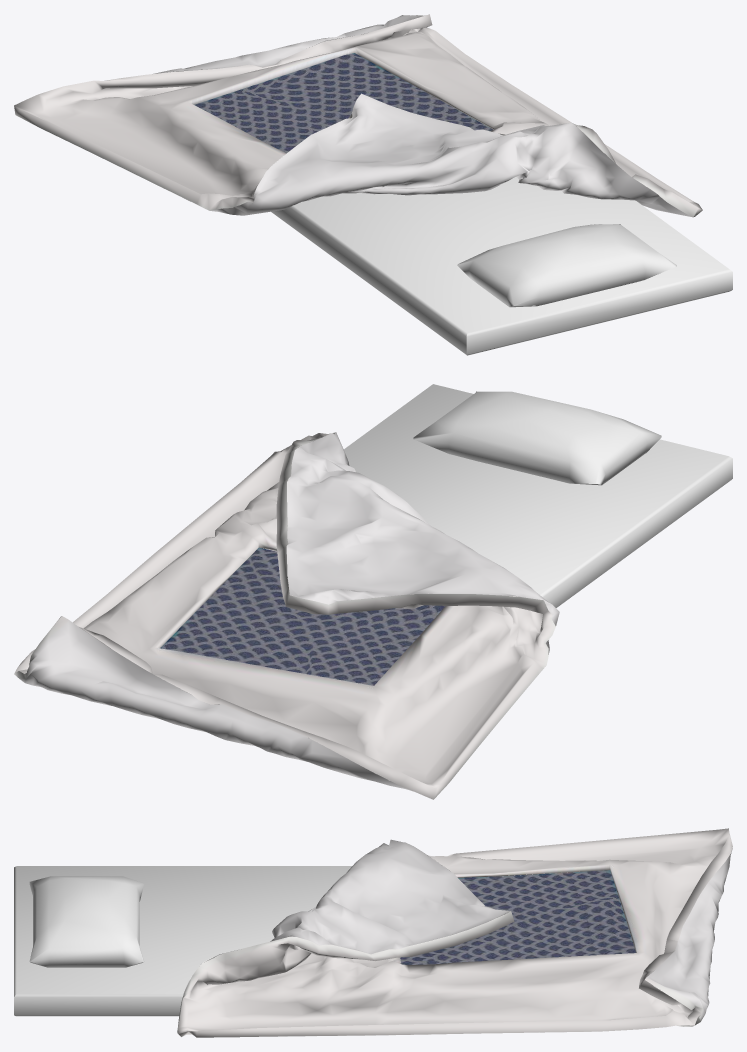
Rendered from futon.glb.
3 renders of one model, top to bottom at view 1: azimuth 30°, elevation 25°; view 2: azimuth 150°, elevation 25°; view 3: azimuth 270°, elevation 25°, orthographic. The views are drawn at different scales.
Parts seen in each view (by area): view 1: Object_2; view 2: Object_2; view 3: Object_2.
Boxes of the visible parts, left/top/right/bottom form: Object_2: left=14, top=14, right=732, bottom=355; Object_2: left=14, top=384, right=732, bottom=799; Object_2: left=14, top=828, right=732, bottom=1037.
Size of the model in its own units: 734 by 120 by 1105.
1 material, 1 textured.
